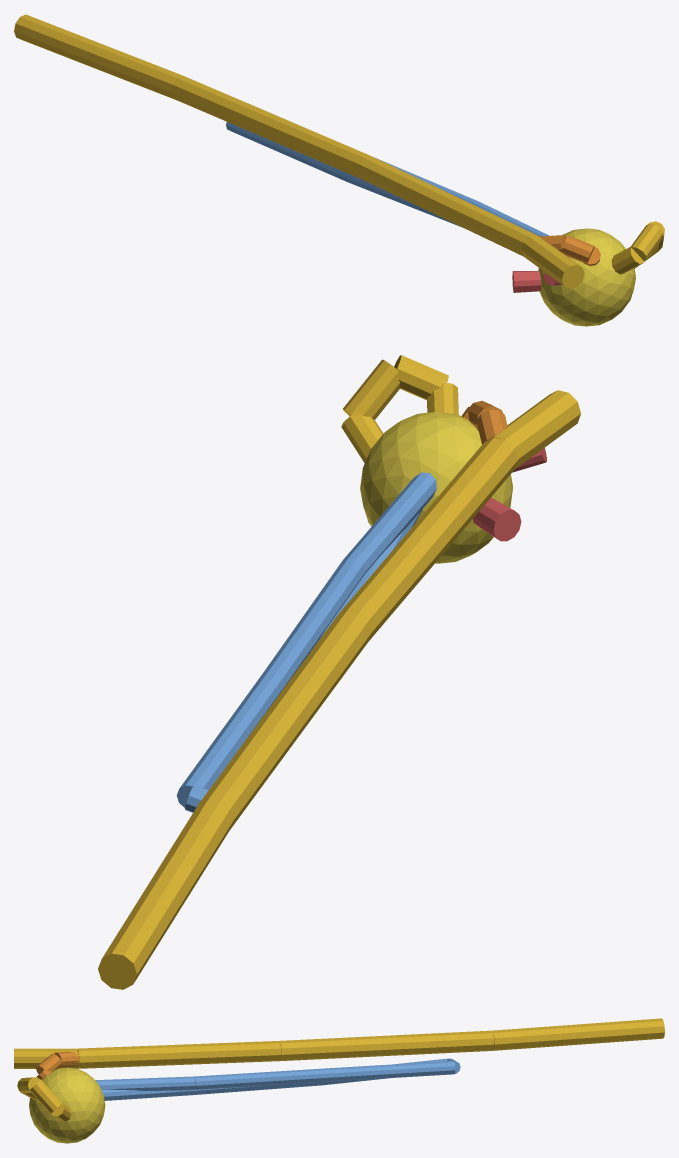
The model's file is nephron_unit.glb.
3 renders of one model, top to bottom at view 1: azimuth 30°, elevation 25°; view 2: azimuth 150°, elevation 25°; view 3: azimuth 270°, elevation 25°, orthographic. The views are drawn at different scales.
Parts seen in each view (by area): view 1: geometry_0; view 2: geometry_0; view 3: geometry_0.
Part boxes in pixels (<box>): geometry_0: <box>14,14,664,326</box>; geometry_0: <box>98,355,580,989</box>; geometry_0: <box>14,1018,664,1143</box>.
Size of the model in its own units: 10.82 by 4.14 by 30.62.
